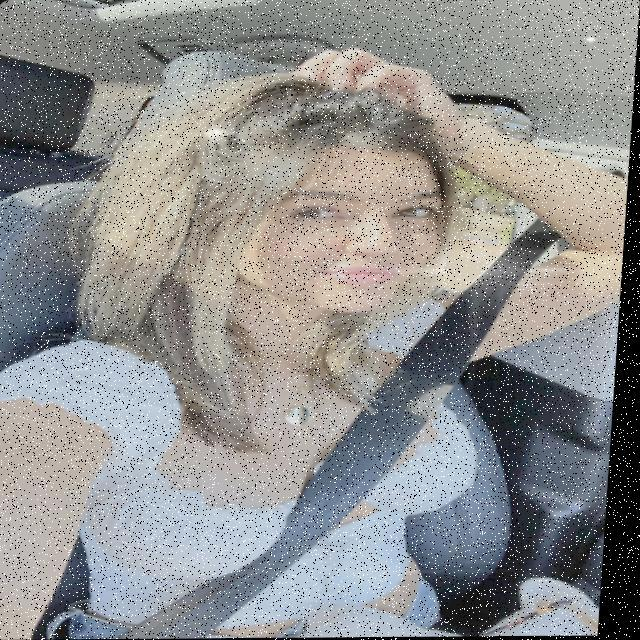seatbelt: (47, 284, 537, 639)
